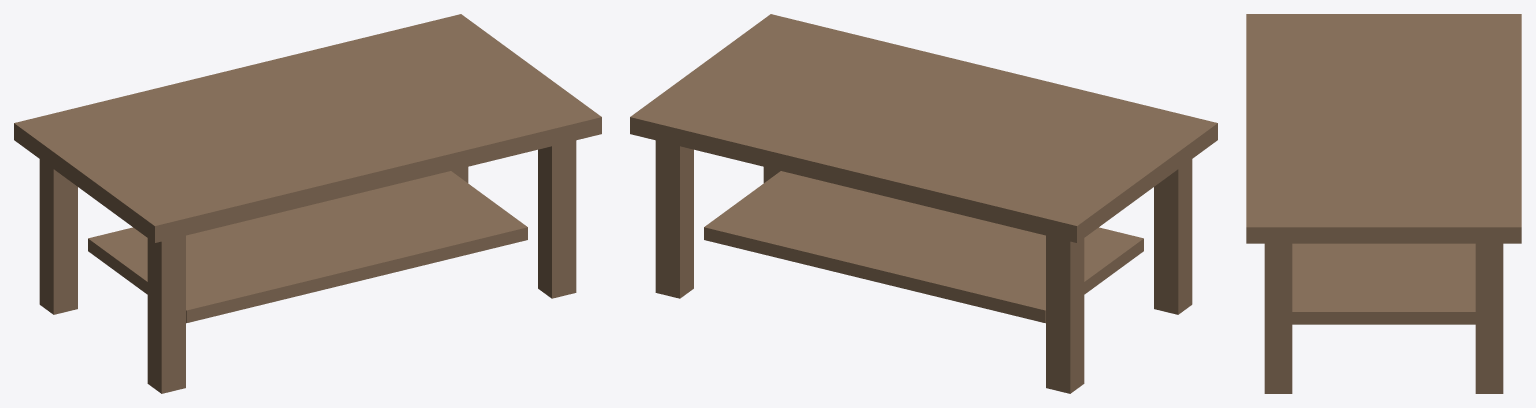
Rendered from coffeeTable.glb.
3 views of the same model, side by side, from view 1: azimuth 30°, elevation 25°; view 2: azimuth 150°, elevation 25°; view 3: azimuth 270°, elevation 25° (orthographic). The views are drawn at different scales.
Parts seen in each view (by area): view 1: coffeeTable; view 2: coffeeTable; view 3: coffeeTable.
Part boxes in pixels (left/top/right/bottom): coffeeTable: left=14, top=14, right=601, bottom=393; coffeeTable: left=630, top=14, right=1217, bottom=393; coffeeTable: left=1246, top=14, right=1521, bottom=393.
Bounding box in the file's own units: 110 × 42 × 60.
